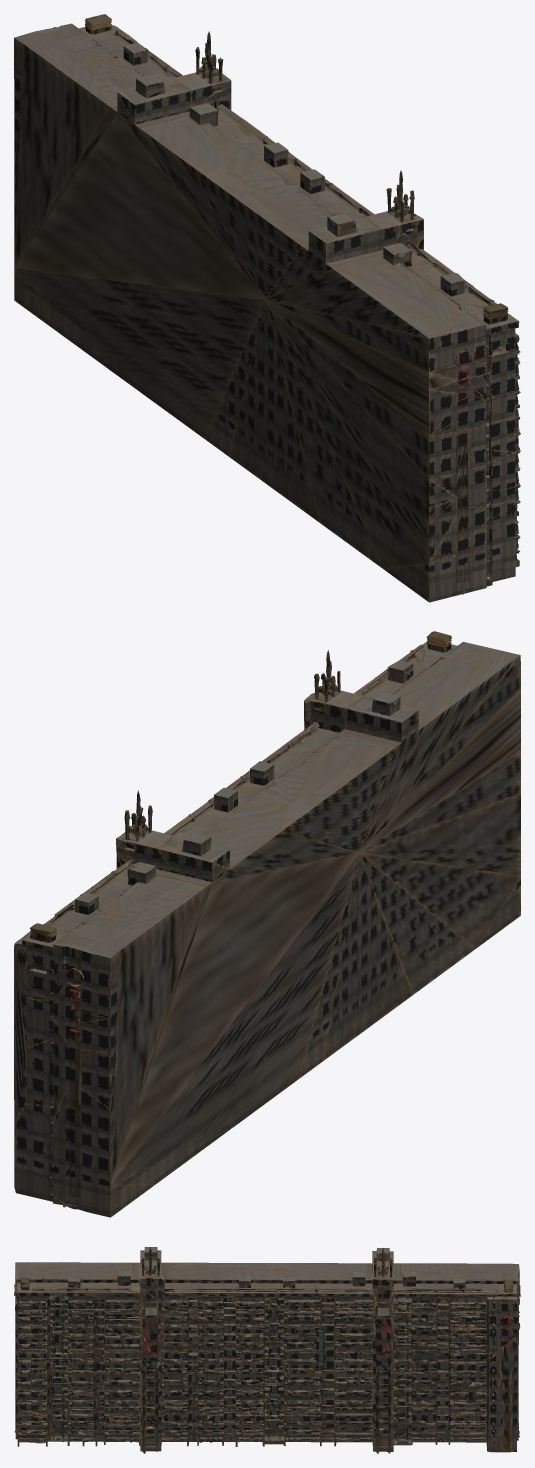
The picture shows the model from 3 angles, top to bottom: view 1: azimuth 30°, elevation 25°; view 2: azimuth 150°, elevation 25°; view 3: azimuth 270°, elevation 25°; orthographic projection. The views are drawn at different scales.
Visible parts, largest first — view 1: l01; view 2: l01; view 3: l01.
Part boxes in pixels (bbox=[...]): l01: bbox=[14, 14, 520, 602]; l01: bbox=[14, 631, 520, 1217]; l01: bbox=[14, 1247, 520, 1453].
Size of the model in its own units: 22.4 by 64 by 146.
1 material, 1 textured.
